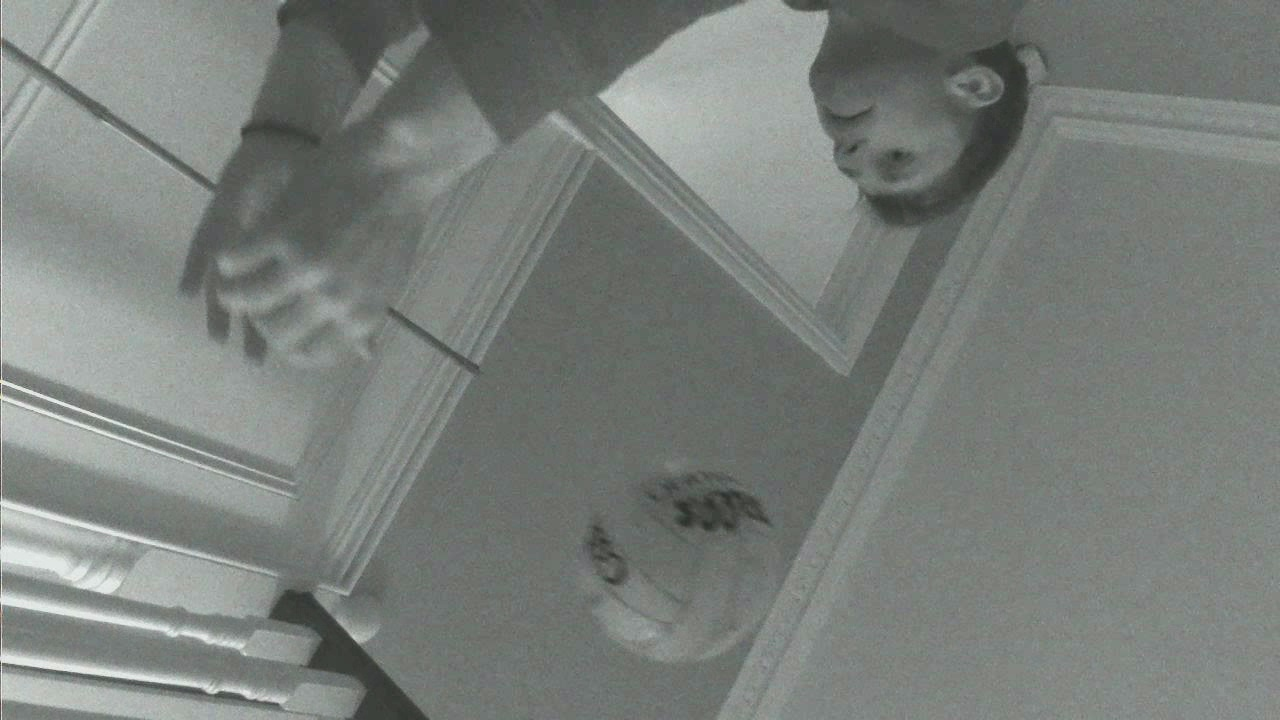Football-Spotter: (579, 458, 783, 663)
